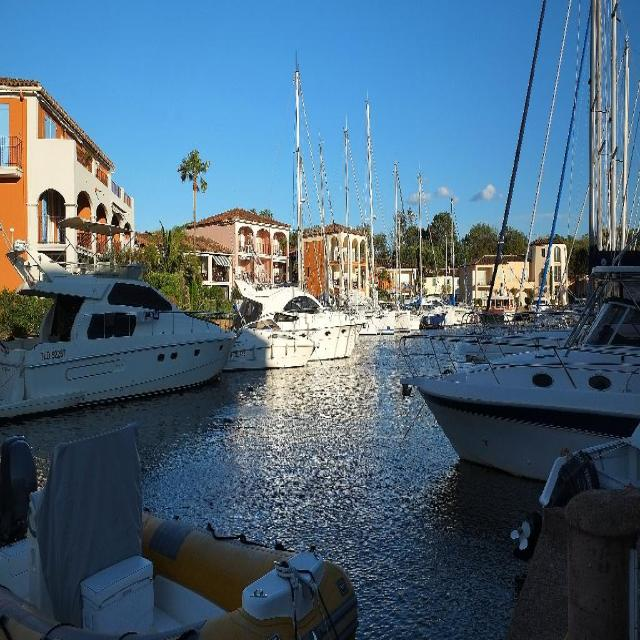Boat: (258, 68, 549, 365), (0, 441, 359, 639), (391, 259, 640, 466), (0, 234, 234, 418), (216, 302, 314, 370), (524, 286, 552, 320)
